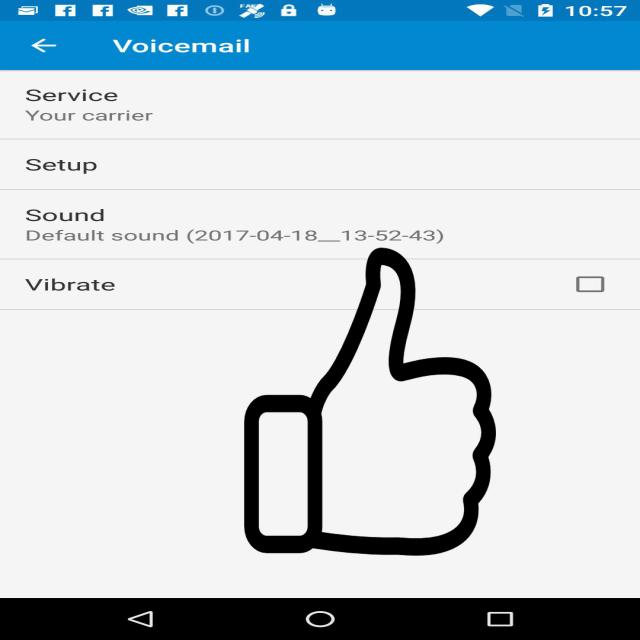privacy zuckering: (240, 248, 500, 556)
